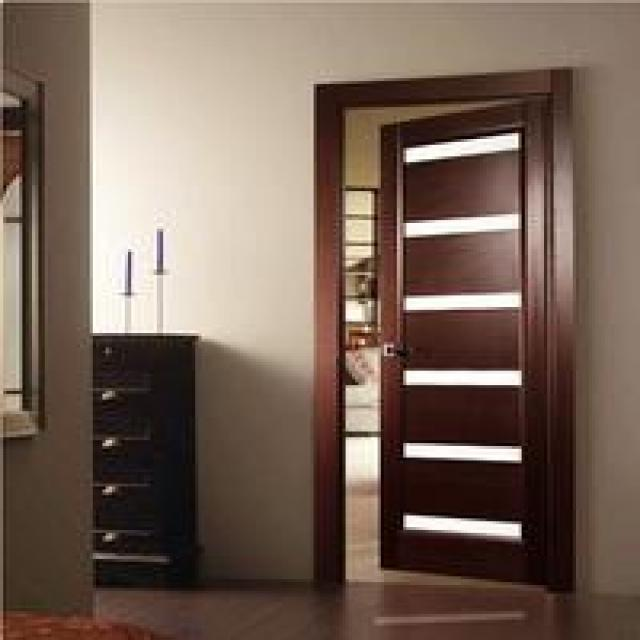open: (327, 97, 558, 584)
